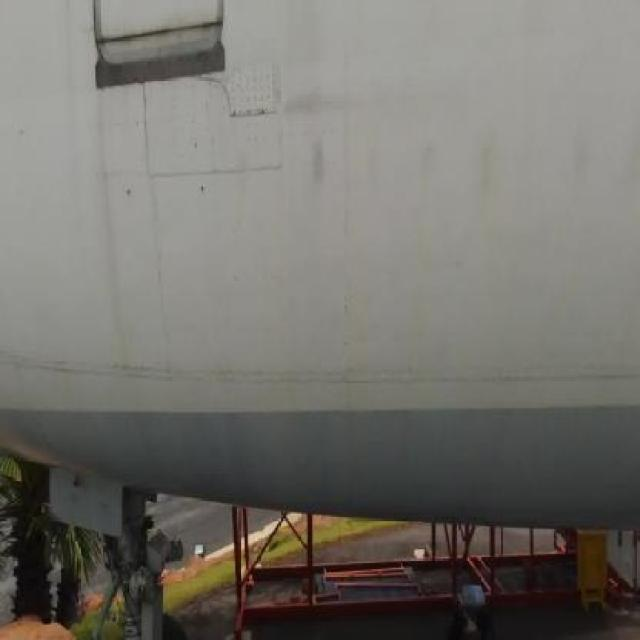Scartch: (285, 74, 367, 204)
